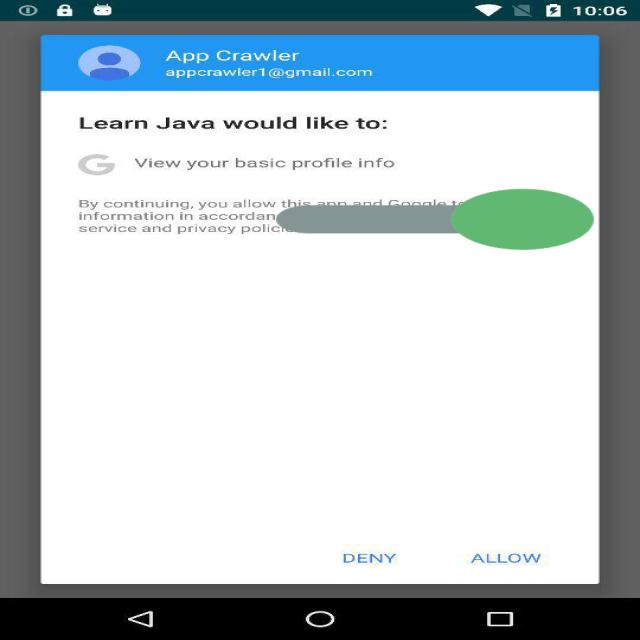social proof: (276, 152, 594, 288)
